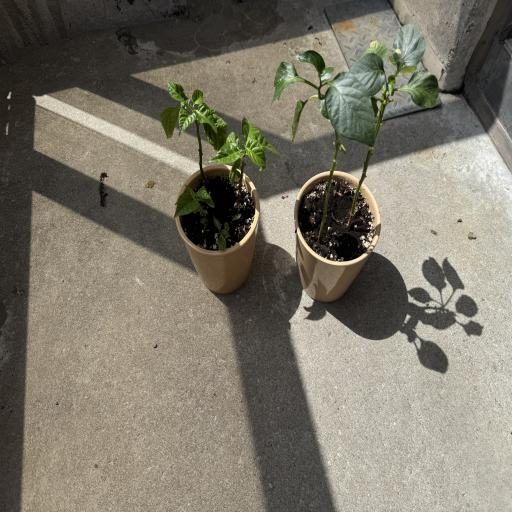Plant Pot: (294, 170, 380, 304), (174, 163, 260, 293)
